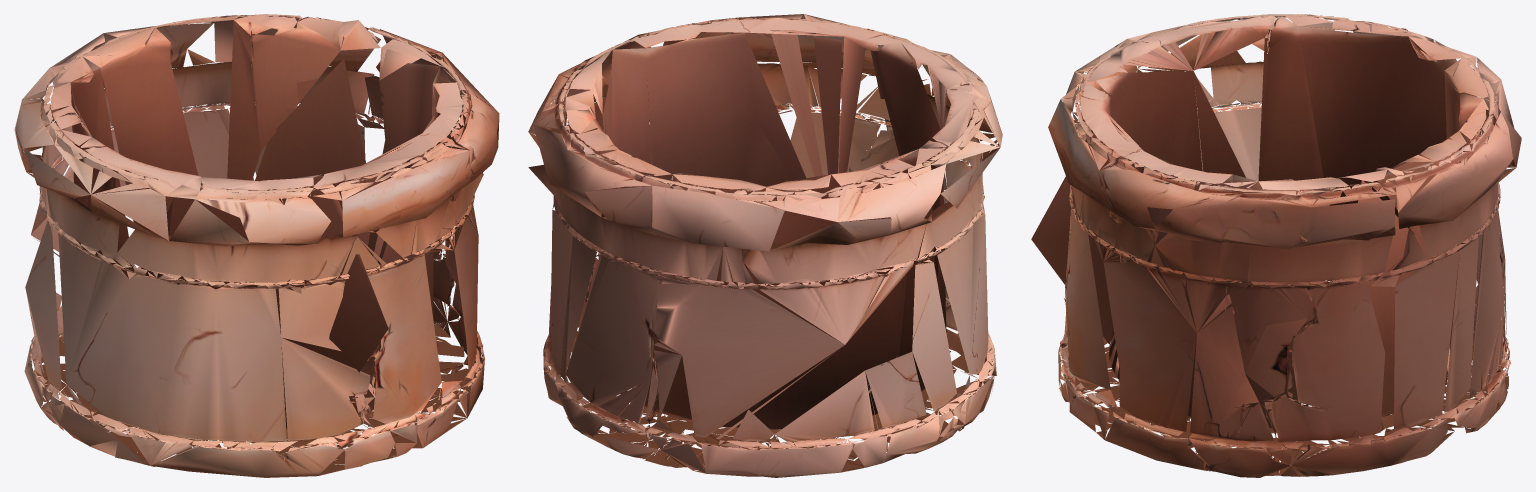
The model's file is well_ring.glb.
The picture shows the model from 3 angles, left to right: view 1: azimuth 30°, elevation 25°; view 2: azimuth 150°, elevation 25°; view 3: azimuth 270°, elevation 25°; orthographic projection.
Parts seen in each view (by area): view 1: model; view 2: model; view 3: model.
Part boxes in pixels (left/top/right/bottom): model: left=14, top=14, right=499, bottom=477; model: left=528, top=14, right=1002, bottom=477; model: left=1031, top=14, right=1521, bottom=477.
Bounding box in the file's own units: 0.8847 × 0.6 × 0.9138.
1 material, 1 textured.
